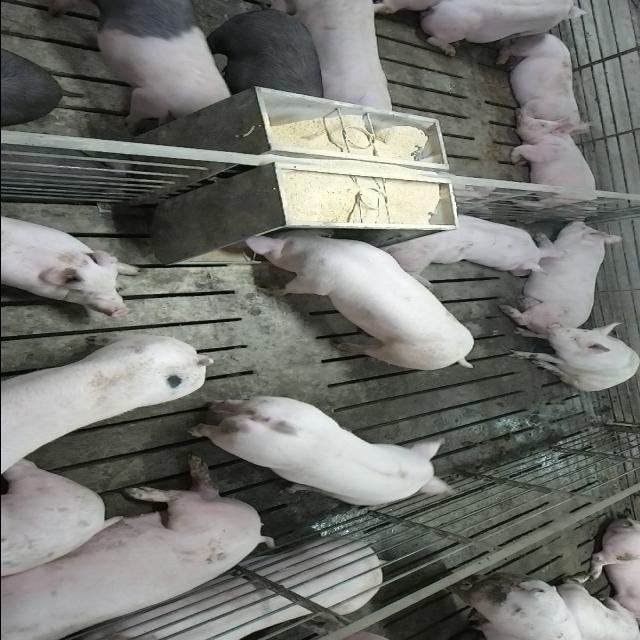Feeding: (234, 220, 476, 368)
Lateral_lying: (0, 456, 273, 638), (46, 538, 386, 640)
Sitting: (505, 320, 639, 391)
Standing: (2, 329, 217, 501), (181, 398, 453, 512), (64, 1, 240, 126), (266, 2, 400, 122), (207, 4, 327, 100)
Sternal_lying: (0, 207, 138, 311), (501, 217, 625, 325), (382, 210, 560, 276), (414, 2, 598, 56), (492, 31, 588, 130), (506, 120, 604, 216)
